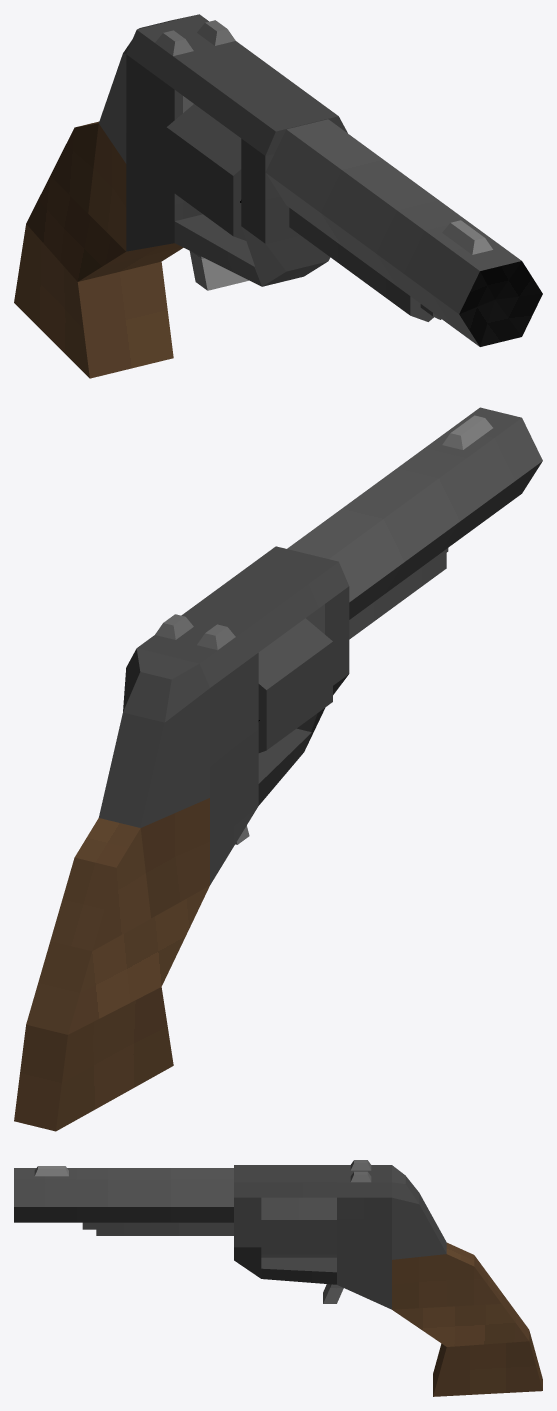
Rendered from revolver.obj.
3 views of the same model, one above another, from view 1: azimuth 30°, elevation 25°; view 2: azimuth 150°, elevation 25°; view 3: azimuth 270°, elevation 25° (orthographic). The views are drawn at different scales.
Visible parts, largest first — view 1: breakActionModel, gunModel, cylinderModel; view 2: gunModel, breakActionModel, cylinderModel; view 3: gunModel, breakActionModel, cylinderModel.
Part boxes in pixels (left/top/right/bottom): breakActionModel: left=174, top=50, right=542, bottom=346; gunModel: left=14, top=14, right=248, bottom=378; cylinderModel: left=166, top=104, right=246, bottom=240; gunModel: left=14, top=613, right=258, bottom=1131; breakActionModel: left=185, top=407, right=542, bottom=805; cylinderModel: left=258, top=618, right=332, bottom=752; gunModel: left=323, top=1160, right=542, bottom=1396; breakActionModel: left=14, top=1165, right=336, bottom=1284; cylinderModel: left=261, top=1197, right=336, bottom=1257.
Bounding box in the file's own units: 0.0744 × 0.2734 × 0.6016.
